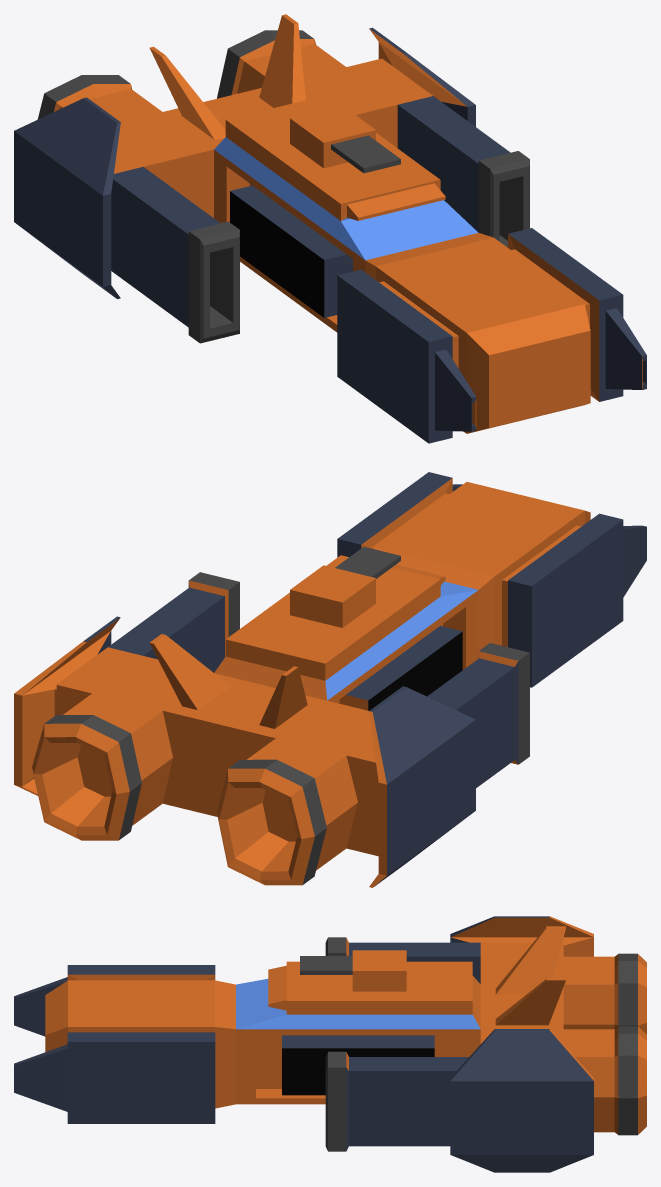
The model's file is CometStrider.fbx.
The picture shows the model from 3 angles, top to bottom: view 1: azimuth 30°, elevation 25°; view 2: azimuth 150°, elevation 25°; view 3: azimuth 270°, elevation 25°; orthographic projection. The views are drawn at different scales.
Visible parts, largest first — view 1: CometStrider; view 2: CometStrider; view 3: CometStrider.
Boxes of the visible parts, x1,y1,x2,y2 form: CometStrider: [14, 14, 646, 443]; CometStrider: [14, 472, 646, 887]; CometStrider: [14, 916, 646, 1172].
Bounding box in the file's own units: 48.69 × 25.02 × 88.5.
